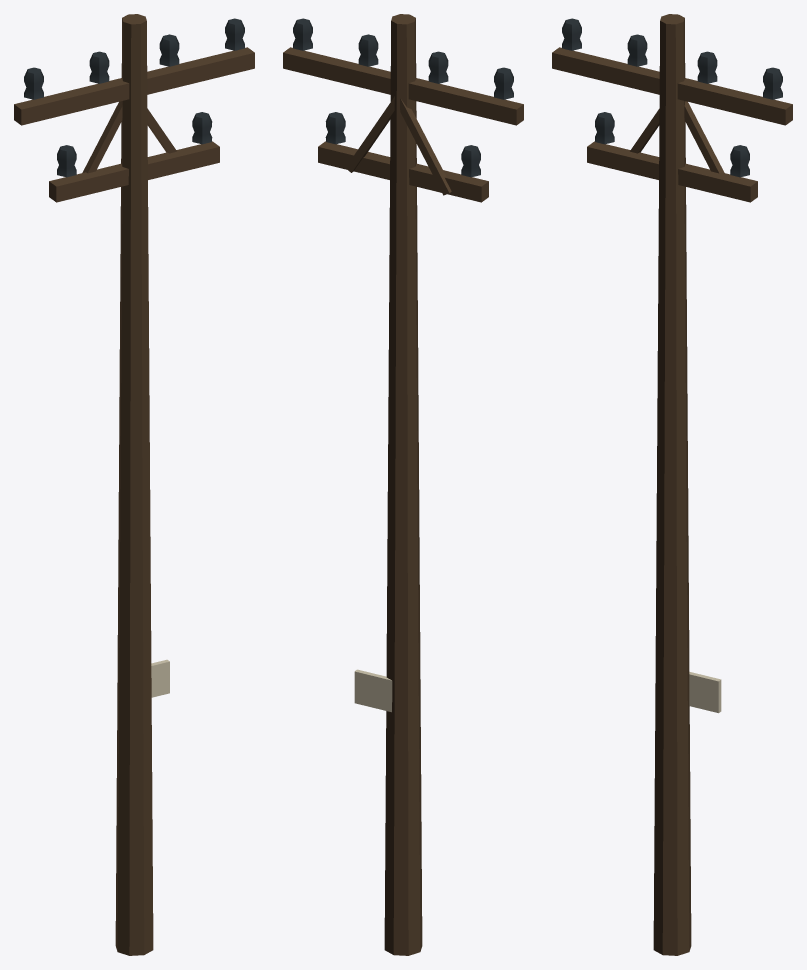
File: pole.glb
The picture shows the model from 3 angles, left to right: view 1: azimuth 30°, elevation 25°; view 2: azimuth 150°, elevation 25°; view 3: azimuth 330°, elevation 25°; orthographic projection.
Visible parts, largest first — view 1: pole; view 2: pole; view 3: pole.
Boxes of the visible parts, box(x1,y1,x2,y2) form: pole: box(14, 14, 254, 955); pole: box(283, 14, 523, 955); pole: box(552, 14, 792, 955).
Bounding box in the file's own units: 2 × 7.6 × 0.2899.
